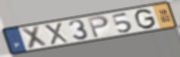3: (69, 19, 90, 41)
5: (111, 11, 134, 34)
G: (134, 8, 158, 30)
P: (87, 15, 111, 40)
X: (20, 25, 49, 50), (42, 22, 71, 46)
